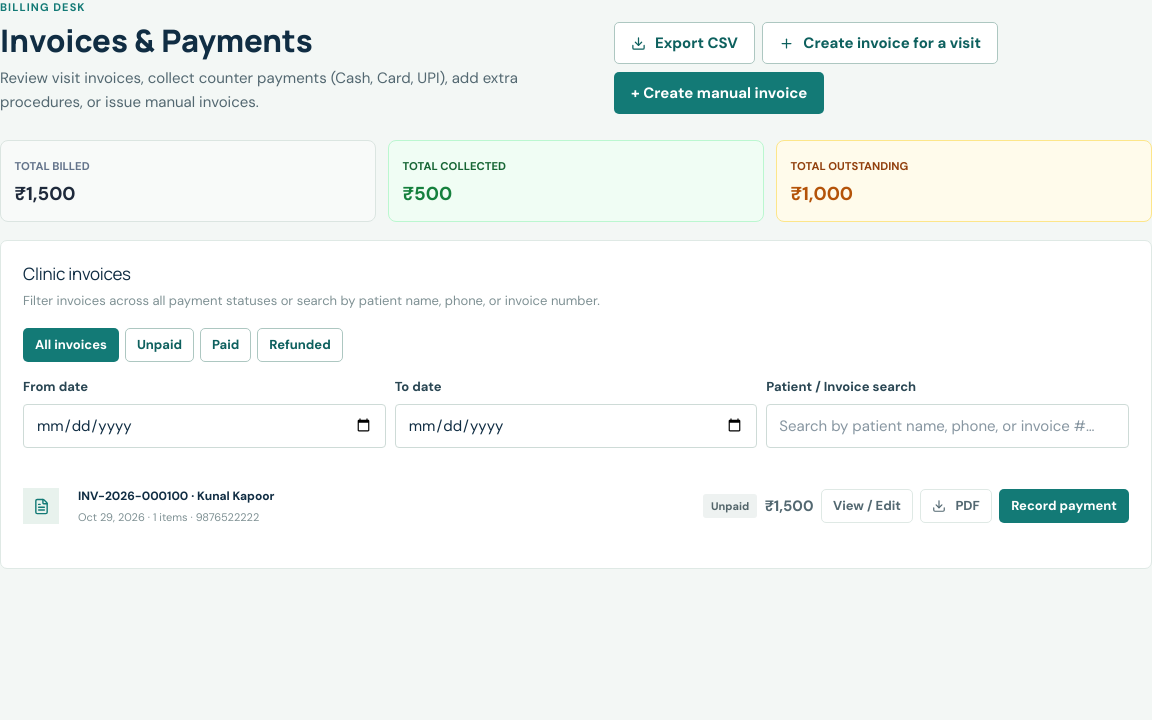
Reception Portal Comprehensive Fixes (Areas 1–6) › Area 4: InvoiceCreator Desk › renders invoice totals and supports counter payment collection
The width and height of the screenshot is (1152, 720).
Expected: the text "INV-2026-000100 · Kunal Kapoor" is shown, [78,488,274,504]
Click "Record payment"
Step 1. Click the button "Record payment" → [1064, 506], box [999,489,1129,523]
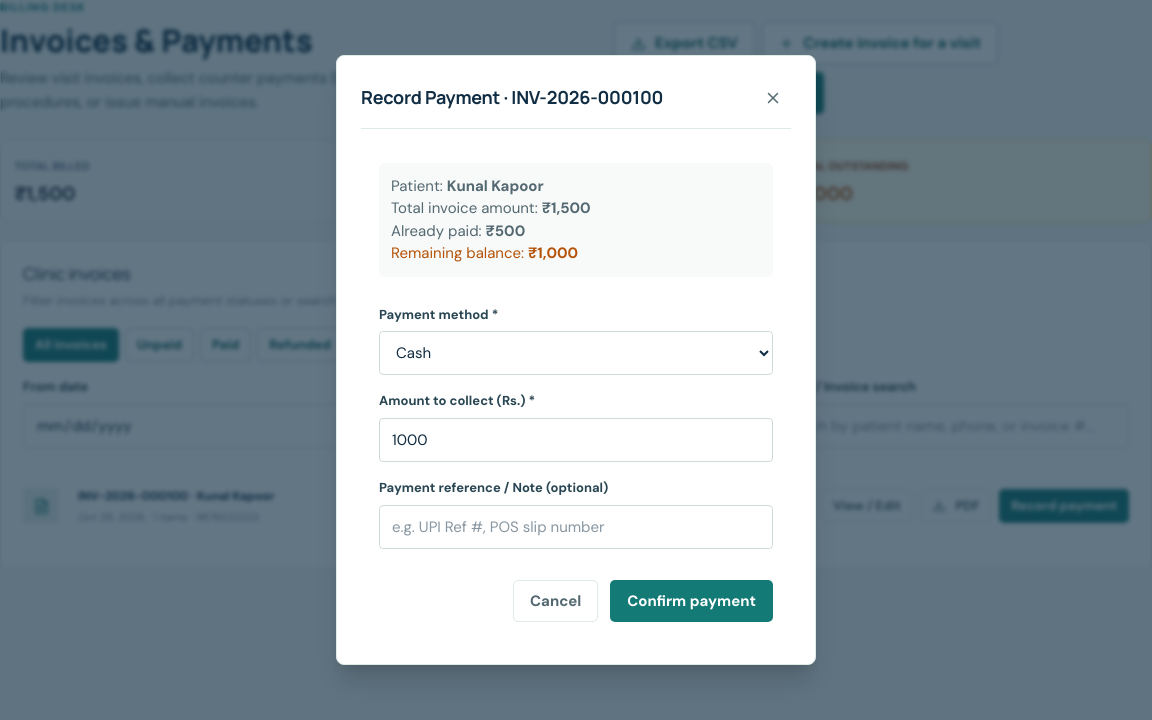
Now the heading "Record Payment · INV-2026-000100" is shown, box [361,87,663,108]
